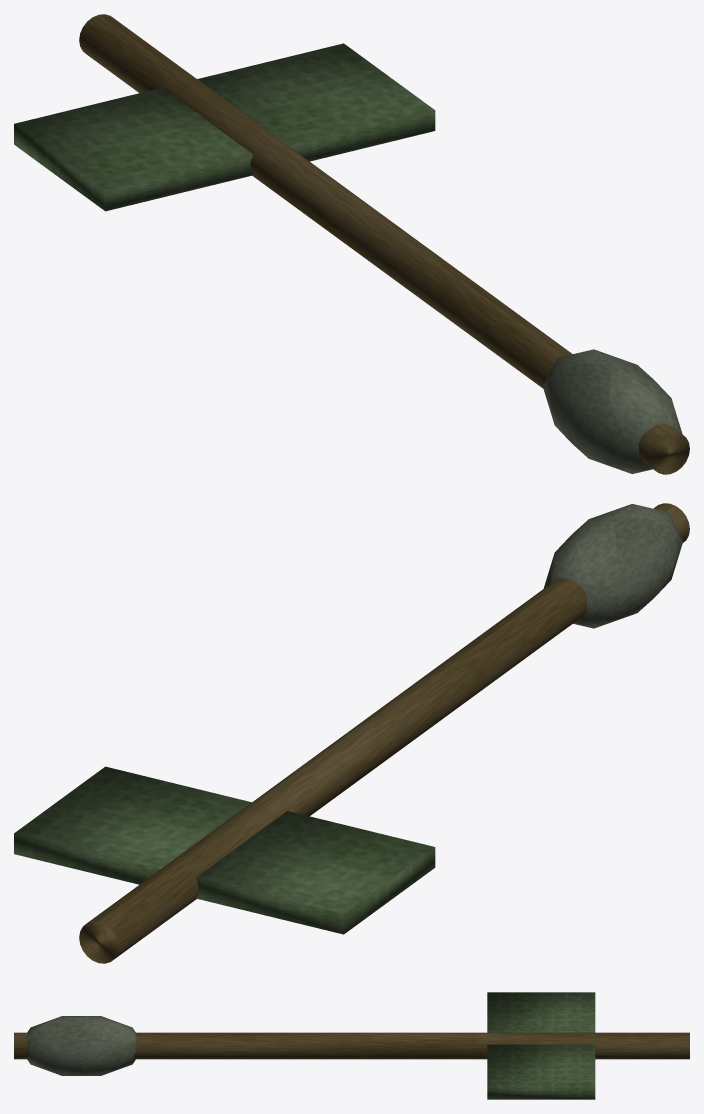
The model's file is projectile_arrow.glb.
3 views of the same model, one above another, from view 1: azimuth 30°, elevation 25°; view 2: azimuth 150°, elevation 25°; view 3: azimuth 270°, elevation 25° (orthographic). The views are drawn at different scales.
Visible parts, largest first — view 1: Projectile shaft.001, Stabilizer.002, Stabilizer.003, Warhead.001; view 2: Projectile shaft.001, Stabilizer.002, Stabilizer.003, Warhead.001; view 3: Projectile shaft.001, Stabilizer.003, Warhead.001, Stabilizer.002.
Boxes of the visible parts, x1,y1,x2,y2 form: Projectile shaft.001: (79,14,689,474); Stabilizer.002: (14,88,253,211); Stabilizer.003: (197,43,435,161); Warhead.001: (543,349,682,473); Projectile shaft.001: (79,503,689,963); Stabilizer.002: (196,811,435,934); Stabilizer.003: (14,766,251,884); Warhead.001: (543,504,683,628); Projectile shaft.001: (14,1032,689,1059); Stabilizer.003: (487,1044,595,1099); Warhead.001: (26,1016,136,1075); Stabilizer.002: (487,992,595,1032).
Size of the model in its own units: 0.25 by 0.07 by 0.75.
Materials: 3 (3 with a texture image).
